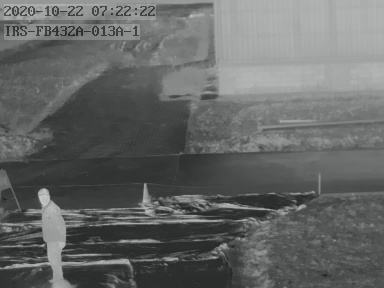person: (37, 188, 68, 284)
